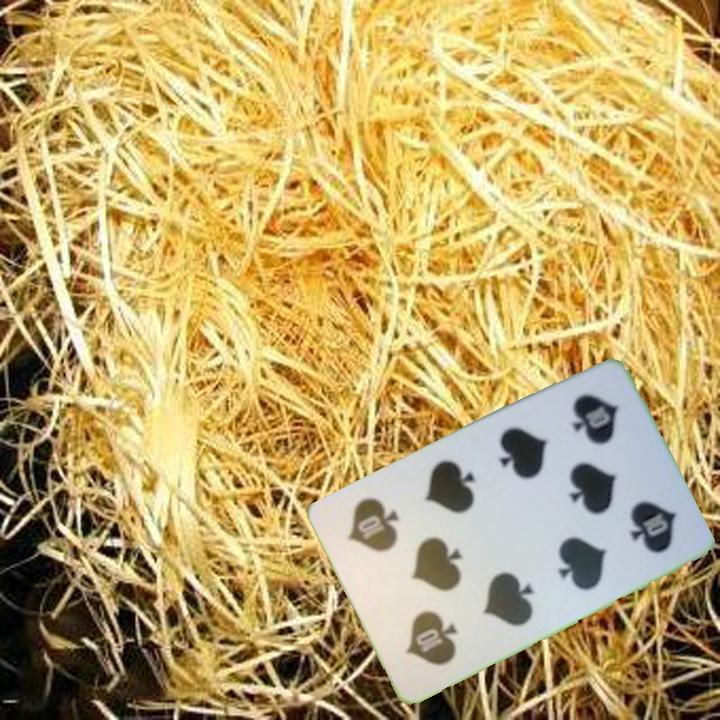s_10.png: (535, 371, 655, 497), (367, 561, 487, 687)
